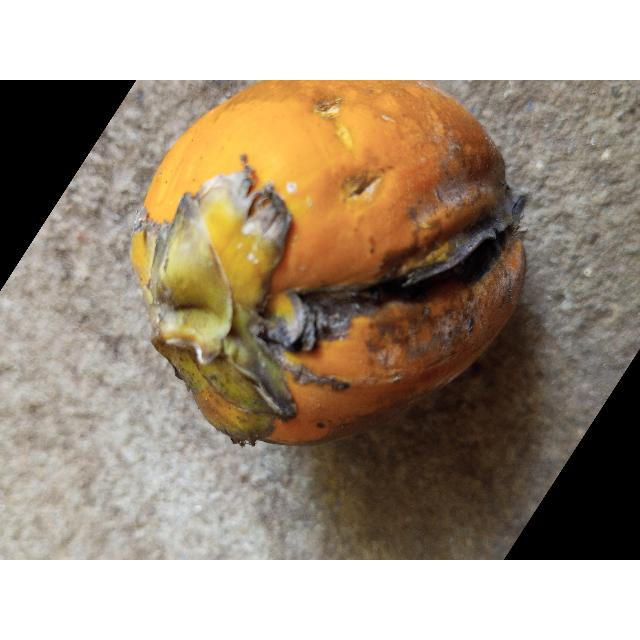damaged: (128, 80, 528, 448)
